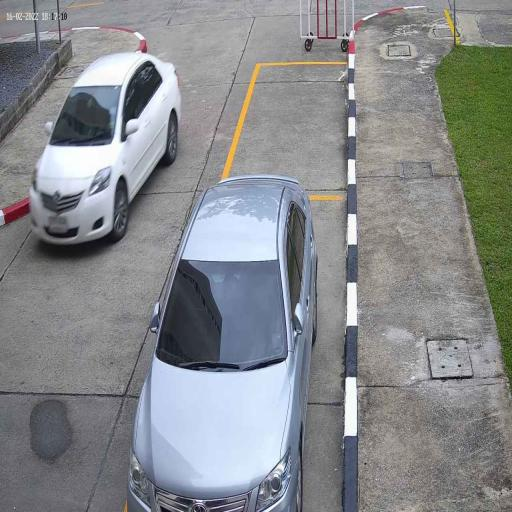car: (125, 173, 319, 511), (28, 50, 182, 246)
